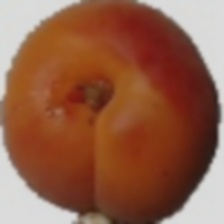apricot: (35, 60, 214, 208)
